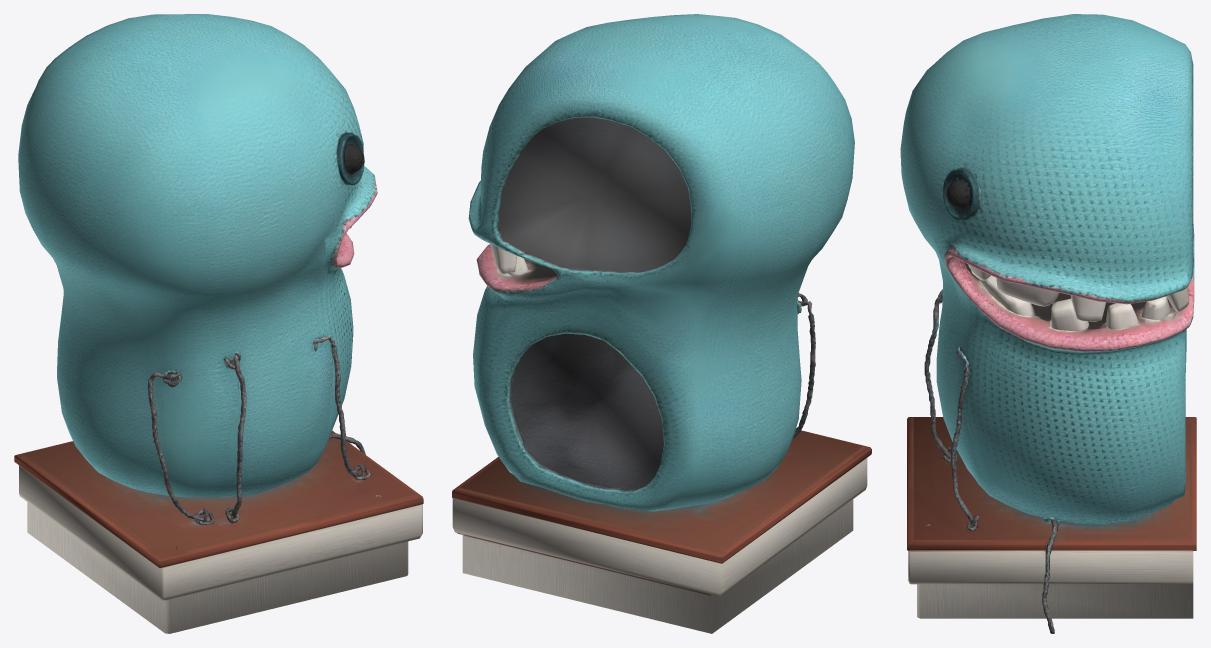
The model's file is little_monster_with_desk.glb.
The picture shows the model from 3 angles, left to right: view 1: azimuth 30°, elevation 25°; view 2: azimuth 150°, elevation 25°; view 3: azimuth 270°, elevation 25°; orthographic projection. The views are drawn at different scales.
Parts seen in each view (by area): view 1: tripo_node_9821eded-1f44-4776-9207-3ff4f6e31b2c; view 2: tripo_node_9821eded-1f44-4776-9207-3ff4f6e31b2c; view 3: tripo_node_9821eded-1f44-4776-9207-3ff4f6e31b2c.
Boxes of the visible parts, box(x1,y1,x2,y2) form: tripo_node_9821eded-1f44-4776-9207-3ff4f6e31b2c: box(14, 14, 423, 633); tripo_node_9821eded-1f44-4776-9207-3ff4f6e31b2c: box(452, 14, 871, 633); tripo_node_9821eded-1f44-4776-9207-3ff4f6e31b2c: box(900, 14, 1196, 633).
Bounding box in the file's own units: 0.6543 × 0.998 × 0.5254.
1 material, 1 textured.
